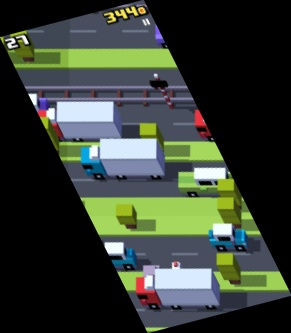car: (178, 167, 238, 198), (154, 23, 201, 50), (205, 222, 248, 250), (98, 242, 139, 270)
duck: (172, 261, 184, 279)
light off: (148, 74, 177, 110)
rail: (17, 84, 200, 107)
rock: (143, 265, 164, 285)
tree: (139, 120, 165, 154), (10, 31, 37, 63), (218, 252, 243, 286), (217, 198, 244, 229), (218, 182, 241, 210), (114, 204, 138, 229)
truck: (80, 137, 165, 182), (136, 269, 219, 311), (37, 101, 124, 140), (193, 107, 257, 142), (1, 92, 53, 128)
